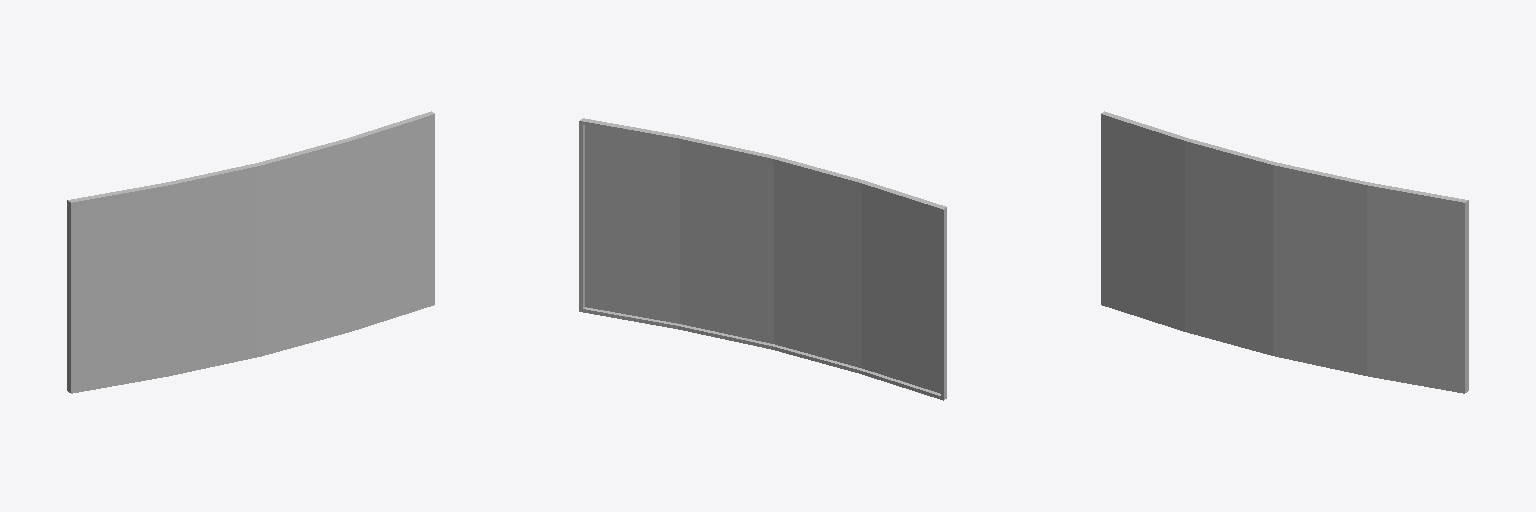
Rendered from monitorScreen.obj.
3 views of the same model, side by side, from view 1: azimuth 30°, elevation 25°; view 2: azimuth 150°, elevation 25°; view 3: azimuth 330°, elevation 25° (orthographic).
Parts seen in each view (by area): view 1: Cube; view 2: Cube; view 3: Cube.
Part boxes in pixels (x1,y1,x2,y2): Cube: (67, 111, 434, 393); Cube: (579, 118, 946, 400); Cube: (1101, 111, 1468, 393).
Bounding box in the file's own units: 2 × 1 × 0.1233.